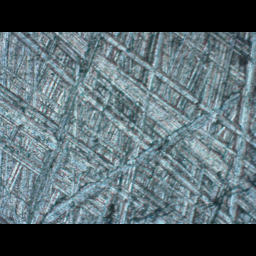d: (84, 52, 250, 216)
